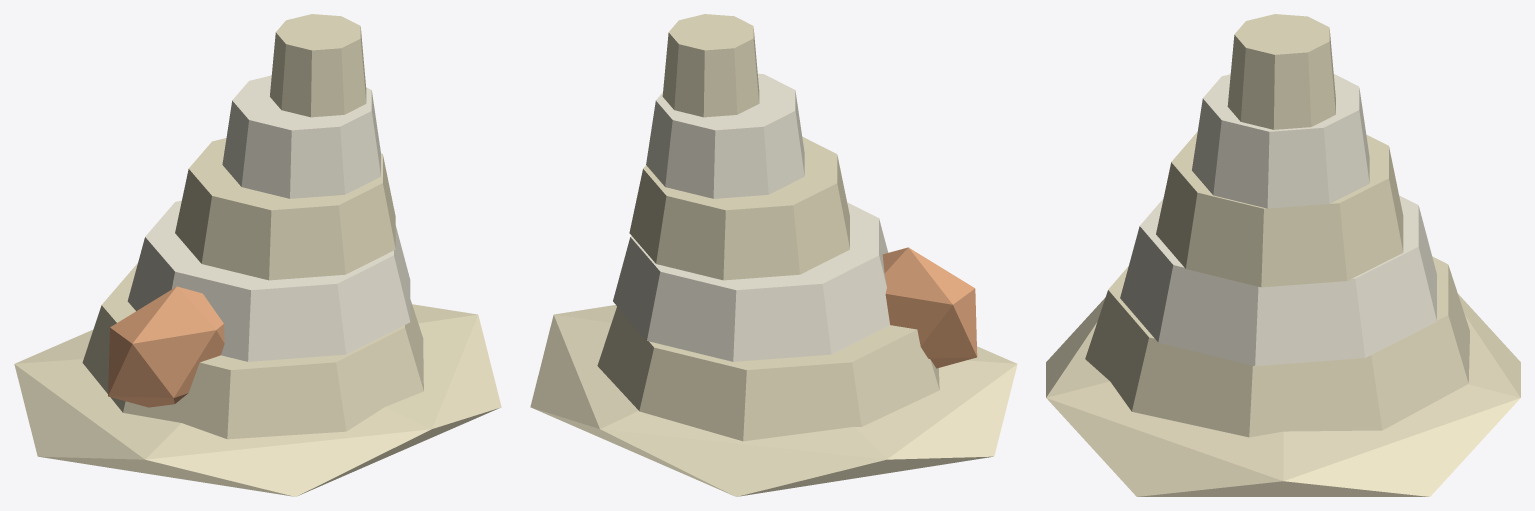
The model's file is CC_ShellDecoration.fbx.
The picture shows the model from 3 angles, left to right: view 1: azimuth 30°, elevation 25°; view 2: azimuth 150°, elevation 25°; view 3: azimuth 270°, elevation 25°; orthographic projection. The views are drawn at different scales.
Visible parts, largest first — view 1: Sand mound, Shell whorl, Shell whorl.001, Shell whorl.002, Shell whorl.003, Shell lip, Shell whorl.004; view 2: Sand mound, Shell whorl, Shell whorl.001, Shell whorl.002, Shell whorl.003, Shell whorl.004, Shell lip; view 3: Sand mound, Shell whorl, Shell whorl.001, Shell whorl.002, Shell whorl.003, Shell whorl.004.
Boxes of the visible parts, x1=… form: Sand mound: x1=14, y1=304, x2=501, y2=496; Shell whorl: x1=82, y1=263, x2=423, y2=439; Shell whorl.001: x1=127, y1=200, x2=410, y2=361; Shell whorl.002: x1=175, y1=138, x2=395, y2=280; Shell whorl.003: x1=222, y1=75, x2=380, y2=198; Shell lip: x1=108, y1=286, x2=224, y2=407; Shell whorl.004: x1=270, y1=14, x2=366, y2=117; Sand mound: x1=530, y1=305, x2=1017, y2=496; Shell whorl: x1=597, y1=306, x2=939, y2=441; Shell whorl.001: x1=613, y1=202, x2=889, y2=361; Shell whorl.002: x1=629, y1=136, x2=849, y2=280; Shell whorl.003: x1=646, y1=73, x2=804, y2=198; Shell whorl.004: x1=662, y1=14, x2=759, y2=117; Shell lip: x1=882, y1=247, x2=977, y2=368; Sand mound: x1=1046, y1=294, x2=1520, y2=496; Shell whorl: x1=1085, y1=256, x2=1469, y2=437; Shell whorl.001: x1=1120, y1=195, x2=1436, y2=366; Shell whorl.002: x1=1156, y1=132, x2=1403, y2=287; Shell whorl.003: x1=1192, y1=74, x2=1369, y2=208; Shell whorl.004: x1=1227, y1=14, x2=1335, y2=129.
Size of the model in its own units: 1.43 by 1.17 by 1.19.
